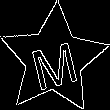M_N: (26, 30, 81, 89)
